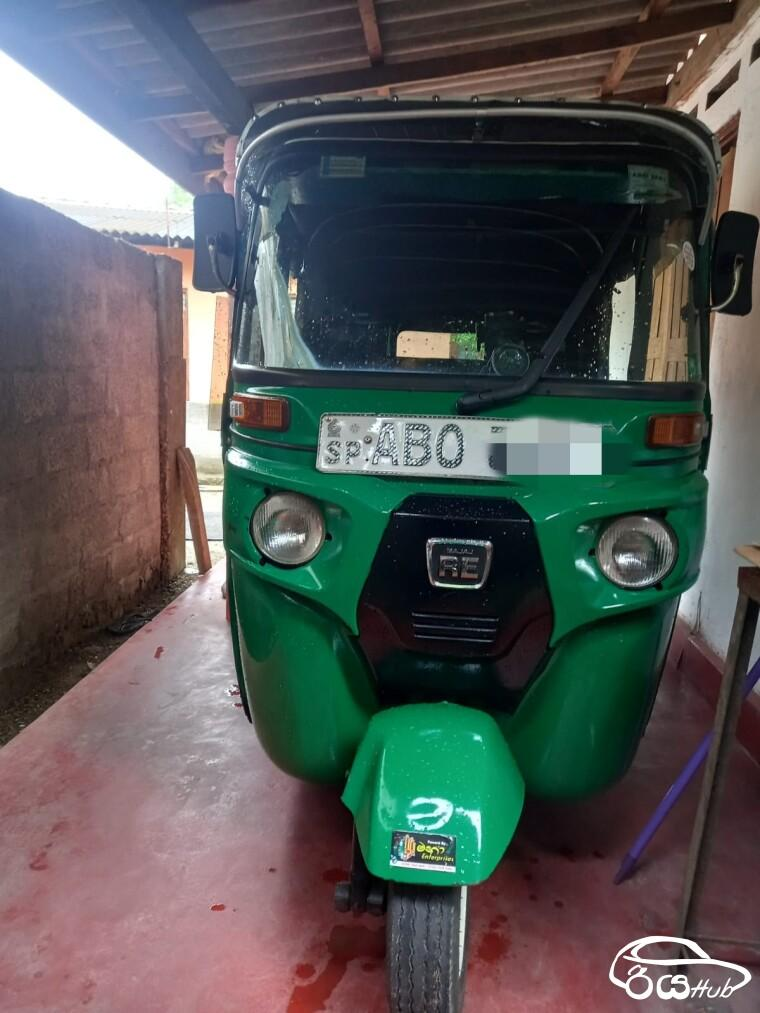threewheel: (191, 96, 760, 1013)
